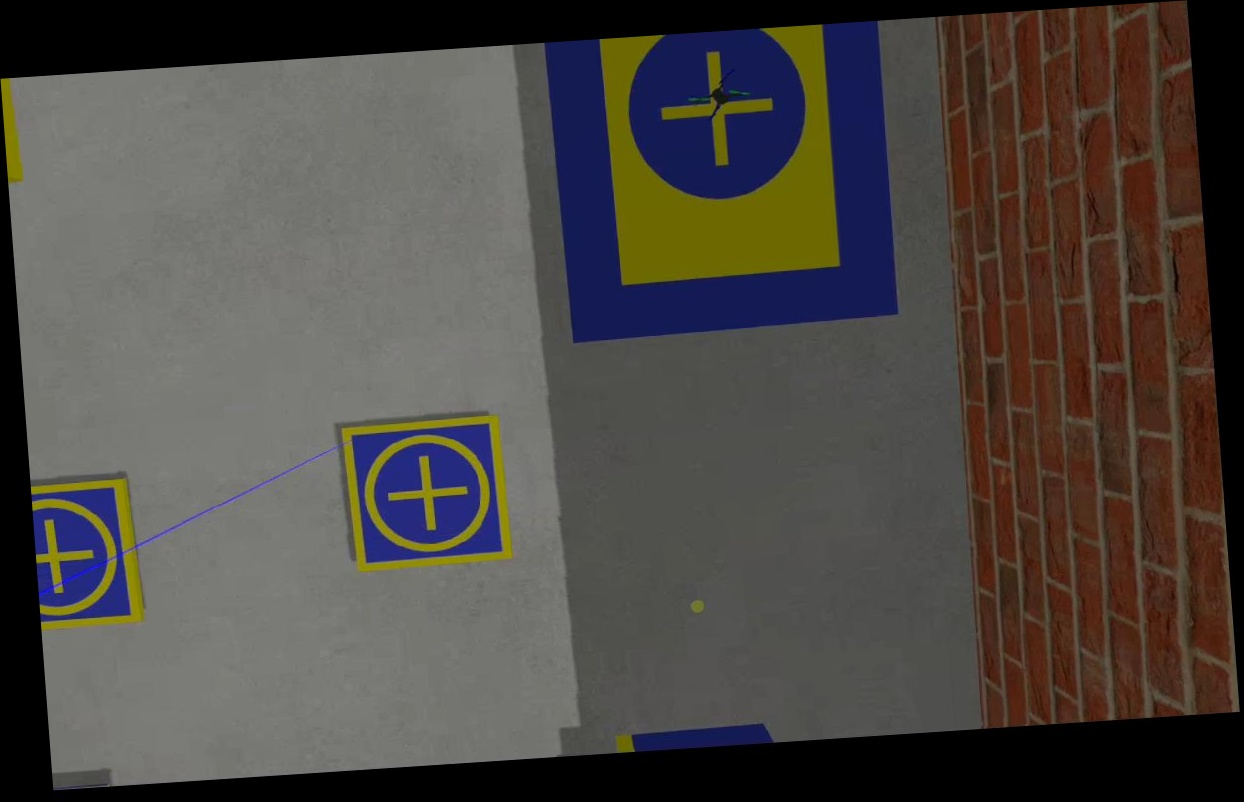large_base: (544, 21, 901, 345)
small_base: (340, 415, 516, 575), (30, 473, 148, 633)
